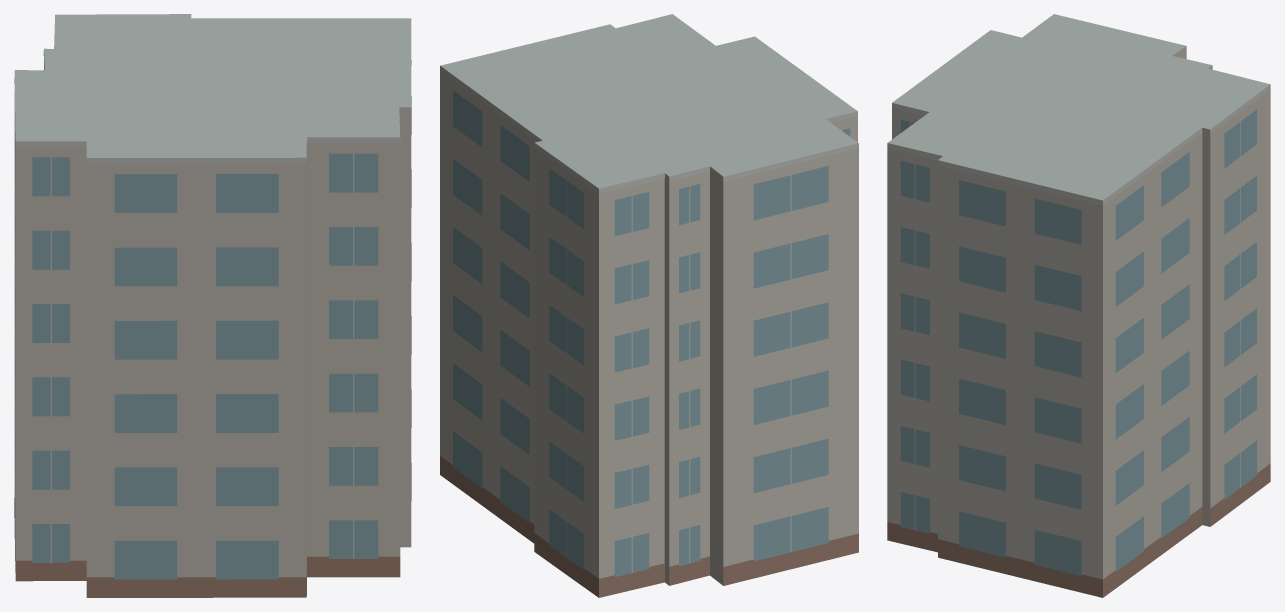
The model's file is survey-upis-32539975.glb.
The picture shows the model from 3 angles, left to right: view 1: azimuth 30°, elevation 25°; view 2: azimuth 150°, elevation 25°; view 3: azimuth 270°, elevation 25°; orthographic projection. The views are drawn at different scales.
Visible parts, largest first — view 1: survey-upis-32539975.tmp; view 2: survey-upis-32539975.tmp; view 3: survey-upis-32539975.tmp.
Boxes of the visible parts, x1,y1,x2,y2 form: survey-upis-32539975.tmp: (14, 14, 411, 597); survey-upis-32539975.tmp: (440, 14, 858, 597); survey-upis-32539975.tmp: (887, 14, 1270, 597).
Size of the model in its own units: 19.32 by 19.19 by 16.78.
